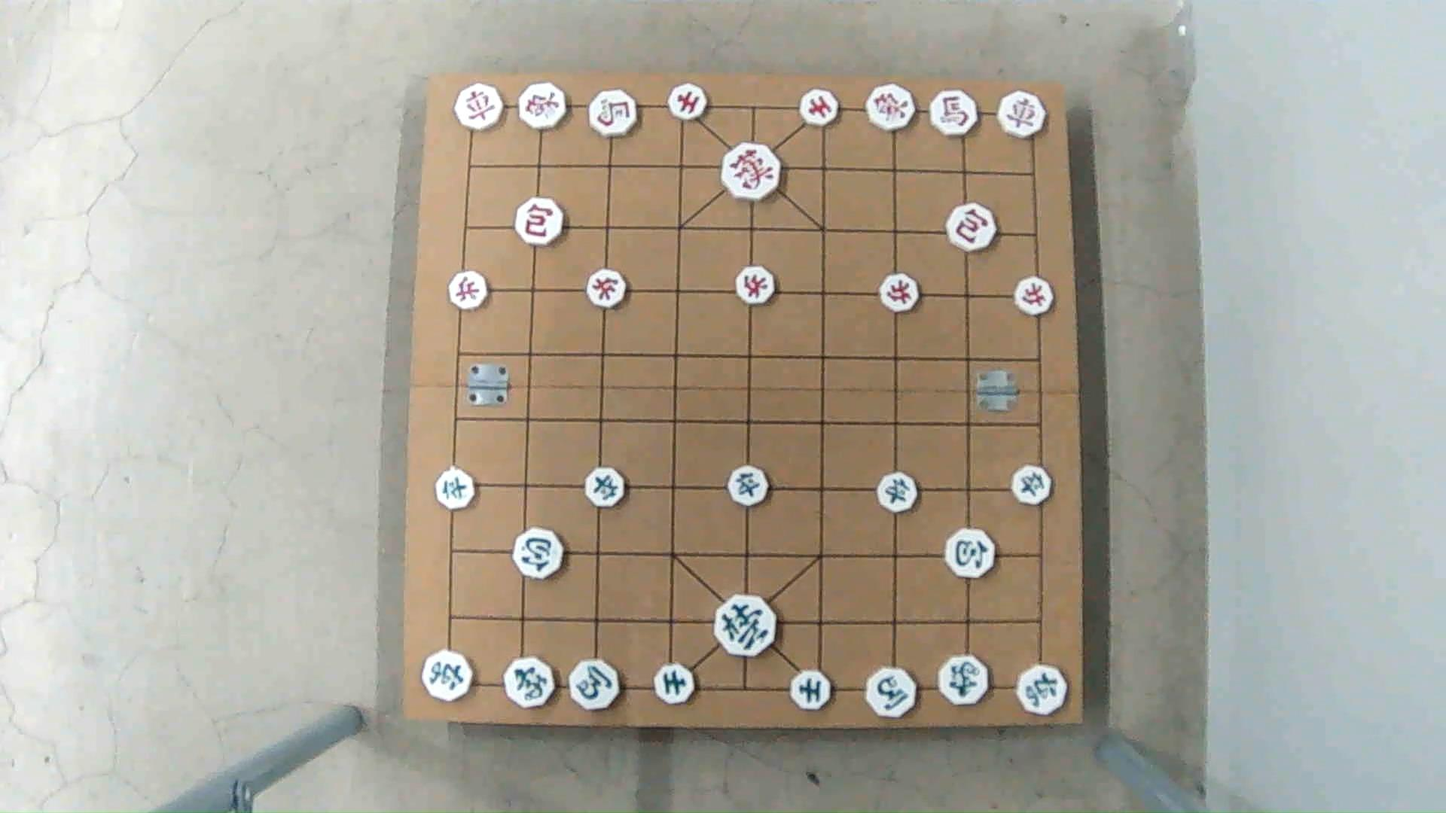cha_green: (1014, 666, 1068, 714), (423, 651, 474, 699)
cha_red: (456, 84, 507, 128), (996, 93, 1048, 136)
jol_green: (1010, 465, 1053, 505), (874, 476, 920, 513), (438, 473, 484, 510), (582, 468, 627, 505), (725, 468, 770, 504)
jol_red: (878, 275, 921, 314), (733, 266, 775, 305), (1011, 280, 1057, 314), (586, 271, 630, 306), (449, 273, 491, 308)
ma_green: (865, 668, 921, 716), (566, 662, 624, 708)
ma_red: (587, 90, 639, 134), (927, 93, 979, 134)
po_green: (511, 530, 565, 575), (944, 531, 996, 577)
po_red: (514, 200, 567, 245), (947, 207, 999, 251)
sa_green: (652, 665, 697, 704), (791, 670, 834, 708)
sa_red: (668, 84, 709, 120), (798, 91, 840, 124)
sang_green: (936, 656, 992, 708), (505, 656, 557, 711)
sang_red: (517, 84, 572, 129), (866, 87, 919, 130)
wang_green: (712, 597, 777, 653)
wang_red: (721, 148, 785, 199)
